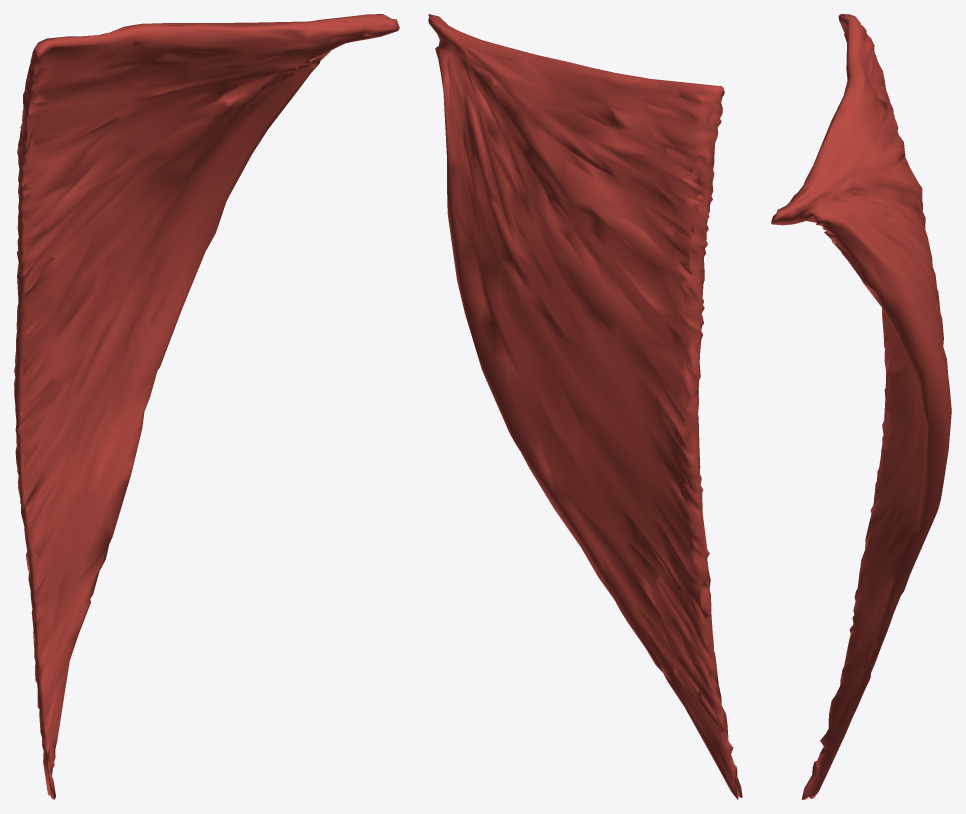
Rendered from musculos-descending-part-of-trapezius-muscle-l.glb.
The picture shows the model from 3 angles, left to right: view 1: azimuth 30°, elevation 25°; view 2: azimuth 150°, elevation 25°; view 3: azimuth 270°, elevation 25°; orthographic projection. The views are drawn at different scales.
Visible parts, largest first — view 1: Descending part of trapezius muscle.l; view 2: Descending part of trapezius muscle.l; view 3: Descending part of trapezius muscle.l.
Boxes of the visible parts, x1=… form: Descending part of trapezius muscle.l: x1=14, y1=14, x2=399, y2=799; Descending part of trapezius muscle.l: x1=428, y1=14, x2=742, y2=799; Descending part of trapezius muscle.l: x1=771, y1=14, x2=951, y2=799.
Bounding box in the file's own units: 0.1388 × 0.2942 × 0.061.
